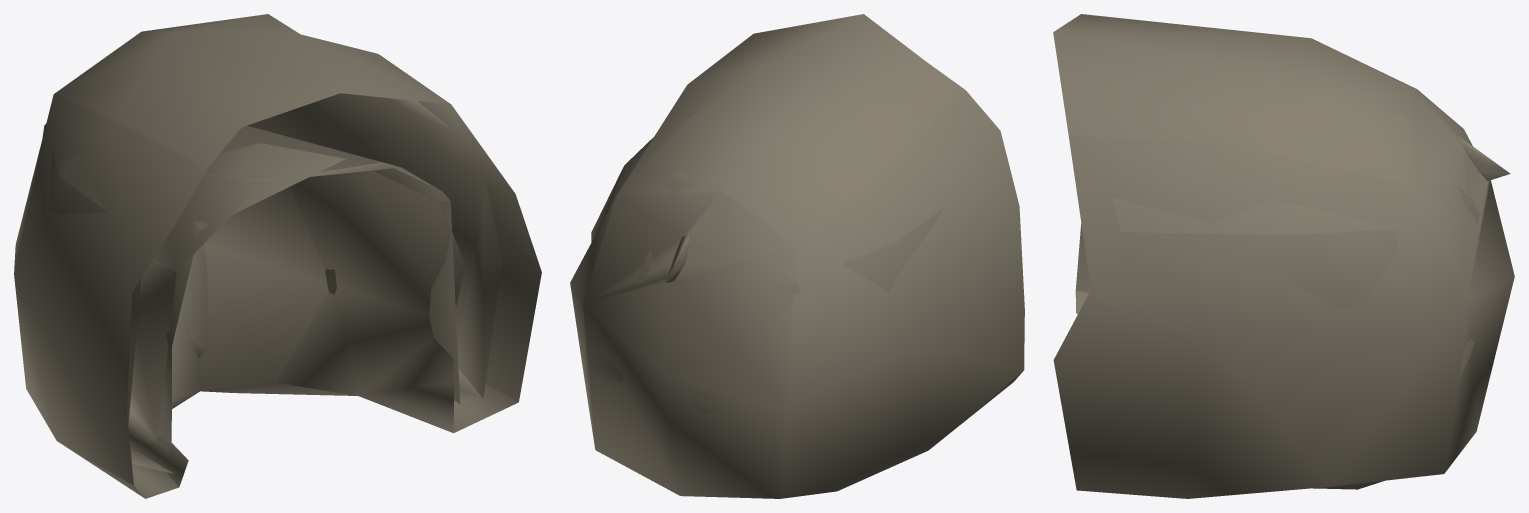
File: panda.glb
The picture shows the model from 3 angles, left to right: view 1: azimuth 30°, elevation 25°; view 2: azimuth 150°, elevation 25°; view 3: azimuth 270°, elevation 25°; orthographic projection. The views are drawn at different scales.
Visible parts, largest first — view 1: geometry_0; view 2: geometry_0; view 3: geometry_0.
Part boxes in pixels (box(x1,y1,x2,y2)): geometry_0: box(14, 14, 541, 498); geometry_0: box(570, 14, 1024, 498); geometry_0: box(1053, 14, 1514, 498).
Bounding box in the file's own units: 0.4625 × 0.4662 × 0.46.
